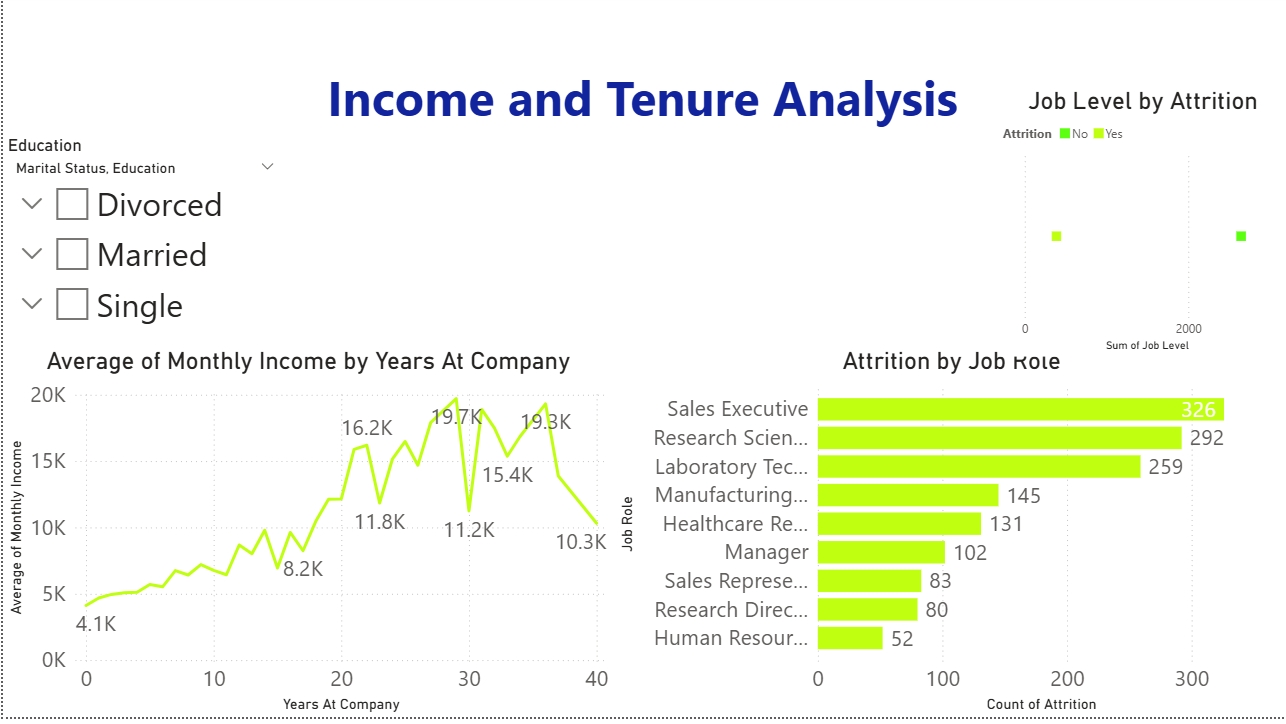

Layout of this report page (visuals, bound fields, positions):
{"tool":"powerbi","page":{"name":"Income and Tenure Analysis","canvas":[1280,720],"ordinal":2},"visuals":[{"type":"lineChart","fields":{"Category":["WA_Fn-UseC_-HR-Employee-Attriti.Years At Company"],"Y":["Avg(WA_Fn-UseC_-HR-Employee-Attriti.Monthly Income)"]},"box":[0,350.7,607.9,369.1],"z":0},{"type":"clusteredBarChart","title":" Attrition by Job Role","fields":{"Category":["WA_Fn-UseC_-HR-Employee-Attriti.Job Role"],"Y":["CountNonNull(WA_Fn-UseC_-HR-Employee-Attriti.Attrition)"]},"box":[607.9,350.7,671.4,369.1],"z":1000},{"type":"scatterChart","title":"Job Level by Attrition","fields":{"X":["Sum(WA_Fn-UseC_-HR-Employee-Attriti.Job Level)"],"Series":["WA_Fn-UseC_-HR-Employee-Attriti.Attrition"]},"box":[990.4,91.9,288.9,268.9],"z":2000},{"type":"slicer","title":"Education","fields":{"Values":["WA_Fn-UseC_-HR-Employee-Attriti.Marital Status","WA_Fn-UseC_-HR-Employee-Attriti.Education"]},"box":[0,140.3,282.3,208.8],"z":3000},{"type":"textbox","box":[282.3,65.1,708.2,285.6],"z":4000}]}

Visuals, with their boxes in screenshot pixels (x1, y1, x2, y2), scaled from the page's 1280x720 canvas onto the 1286x724 screenshot:
lineChart - WA_Fn-UseC_-HR-Employee-Attriti.Years At Company x Avg(WA_Fn-UseC_-HR-Employee-Attriti.Monthly Income): box=[0, 353, 611, 723]
" Attrition by Job Role" clusteredBarChart: box=[611, 353, 1285, 723]
"Job Level by Attrition" scatterChart: box=[995, 92, 1285, 363]
"Education" slicer: box=[0, 141, 284, 351]
textbox: box=[284, 65, 995, 353]
